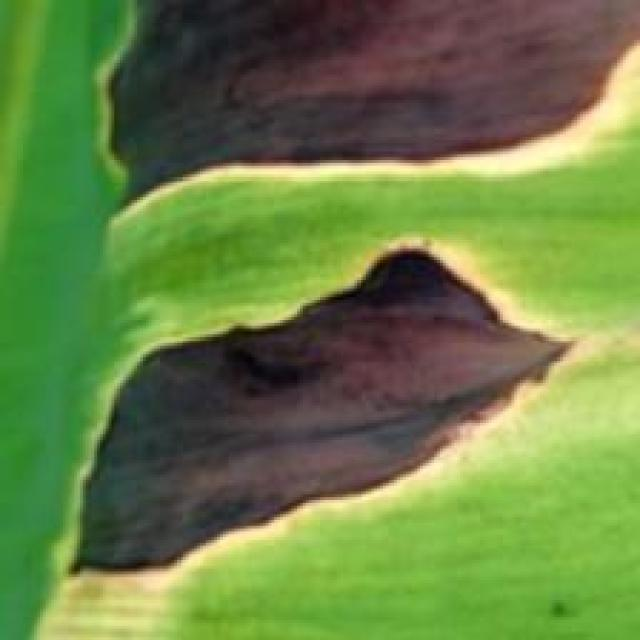Bacterial_spot: (66, 237, 586, 586), (62, 0, 634, 234)
